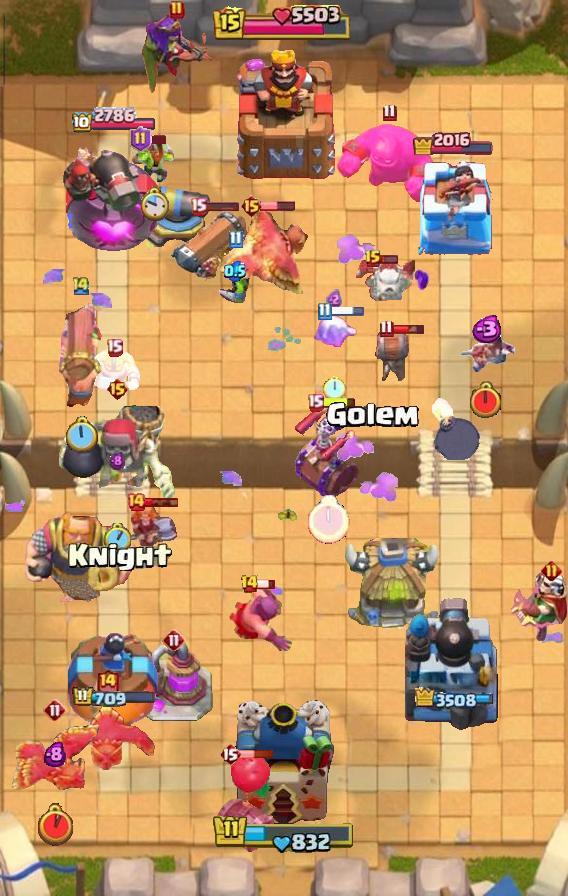baby-dragon: (429, 398, 481, 460)
barbarian-hut: (137, 11, 217, 99)
battle-healer: (169, 207, 251, 291), (57, 295, 105, 409)
clock: (212, 813, 356, 855), (213, 5, 355, 43)
clone: (335, 123, 443, 205)
electro-giant: (56, 390, 178, 506)
electro-spirit: (469, 315, 504, 343), (44, 741, 66, 767), (224, 260, 246, 282), (326, 289, 342, 310), (109, 451, 125, 471)
elixir: (308, 495, 350, 545), (39, 803, 74, 846), (469, 381, 504, 420), (64, 416, 98, 455), (139, 186, 169, 223), (103, 522, 131, 553), (323, 376, 345, 401)
emote: (329, 305, 367, 318), (321, 396, 357, 409), (260, 200, 296, 212), (204, 200, 240, 212), (390, 323, 426, 335), (144, 497, 179, 508), (238, 749, 273, 759), (148, 134, 168, 146), (256, 578, 276, 590), (381, 255, 400, 266)
giant-skeleton: (23, 506, 139, 606)
goblin-giant: (87, 346, 141, 394)
hog-rider: (126, 500, 178, 554)
king-tower: (229, 43, 339, 181), (234, 700, 334, 826)
knight: (373, 328, 423, 384)
mini-pekka: (355, 255, 419, 305)
mirror: (309, 315, 359, 353)
monk: (228, 588, 294, 654)
mother-witch: (216, 207, 312, 301), (57, 700, 157, 772), (8, 722, 102, 796)
pekka: (135, 641, 213, 723)
prince: (342, 538, 444, 634)
queen-tower: (407, 158, 499, 256), (68, 633, 160, 731)
royal-recruit: (141, 182, 215, 252)
royal-recruit-evolution: (211, 752, 277, 856)
selected: (71, 107, 157, 135), (413, 129, 496, 155), (71, 686, 156, 710), (413, 686, 493, 710)
skeleton-dragon: (454, 327, 516, 379)
skeleton-king: (508, 570, 568, 646)
skeleton-king-bar: (294, 401, 364, 501)
text: (96, 667, 121, 698), (162, 628, 186, 652), (43, 698, 67, 722), (241, 194, 264, 218), (106, 377, 129, 401), (130, 126, 151, 152), (219, 742, 241, 766), (541, 560, 563, 581), (71, 275, 91, 296), (126, 492, 146, 512), (241, 574, 260, 594), (364, 249, 382, 269), (307, 393, 325, 412), (190, 197, 207, 216), (169, 0, 185, 20), (105, 339, 122, 357), (317, 302, 332, 321), (378, 318, 393, 337), (383, 103, 398, 121), (229, 231, 243, 249)
tower-bar: (405, 595, 501, 731), (63, 136, 165, 256)
zap: (214, 249, 256, 307), (131, 138, 177, 184)
